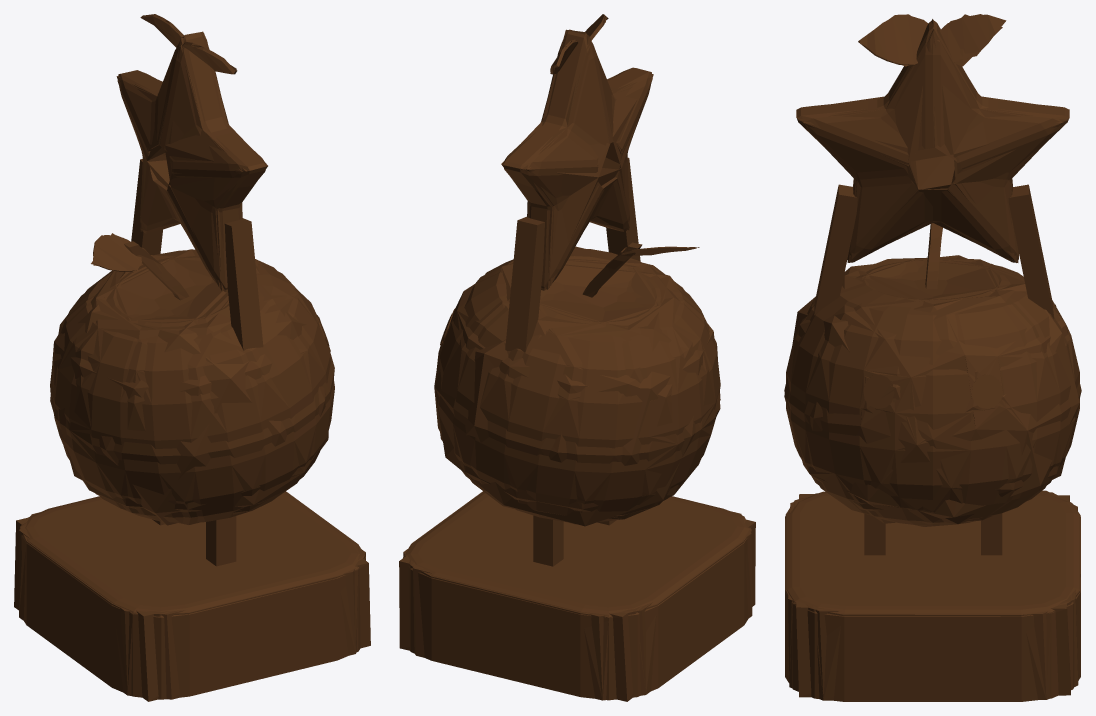
File: junimoLOD.fbx
3 renders of one model, left to right at view 1: azimuth 30°, elevation 25°; view 2: azimuth 150°, elevation 25°; view 3: azimuth 270°, elevation 25°, orthographic. The views are drawn at different scales.
Visible parts, largest first — view 1: Cube.001, Cube.002, Cube.004, Cube.003; view 2: Cube.001, Cube.002, Cube.004, Cube.003; view 3: Cube.001, Cube.002, Cube.004, Cube.003.
Boxes of the visible parts, bbox=[...] form: Cube.001: bbox=[21, 14, 365, 699]; Cube.002: bbox=[19, 16, 364, 695]; Cube.004: bbox=[14, 20, 370, 701]; Cube.003: bbox=[19, 32, 365, 699]; Cube.001: bbox=[403, 14, 751, 700]; Cube.002: bbox=[403, 16, 752, 700]; Cube.004: bbox=[399, 17, 755, 701]; Cube.003: bbox=[403, 17, 752, 698]; Cube.001: bbox=[785, 14, 1080, 701]; Cube.002: bbox=[785, 14, 1080, 700]; Cube.004: bbox=[784, 14, 1079, 697]; Cube.003: bbox=[784, 14, 1081, 699].
Size of the model in its own units: 2.01 by 4.63 by 2.01.
